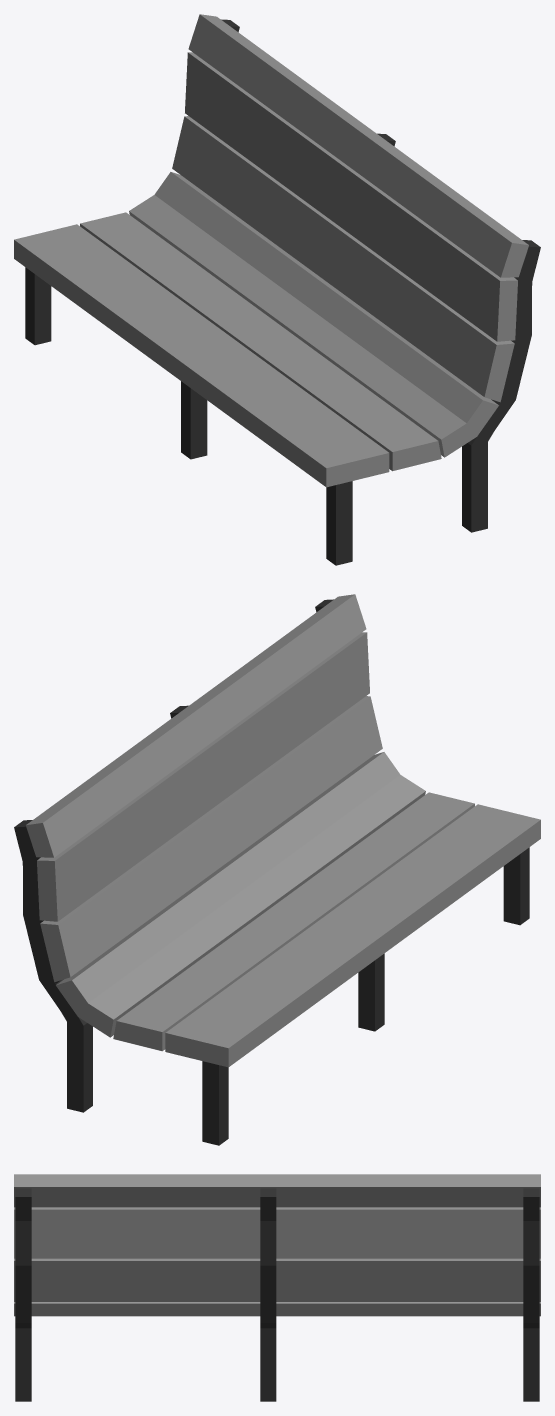
Rendered from bench_02.fbx.
3 views of the same model, one above another, from view 1: azimuth 30°, elevation 25°; view 2: azimuth 150°, elevation 25°; view 3: azimuth 270°, elevation 25° (orthographic). The views are drawn at different scales.
Parts seen in each view (by area): view 1: bench_02; view 2: bench_02; view 3: bench_02.
Boxes of the visible parts, bbox=[...] form: bench_02: bbox=[14, 14, 540, 565]; bench_02: bbox=[14, 594, 540, 1145]; bench_02: bbox=[14, 1174, 540, 1401].
Size of the model in its own units: 1.04 by 1.29 by 2.6.
